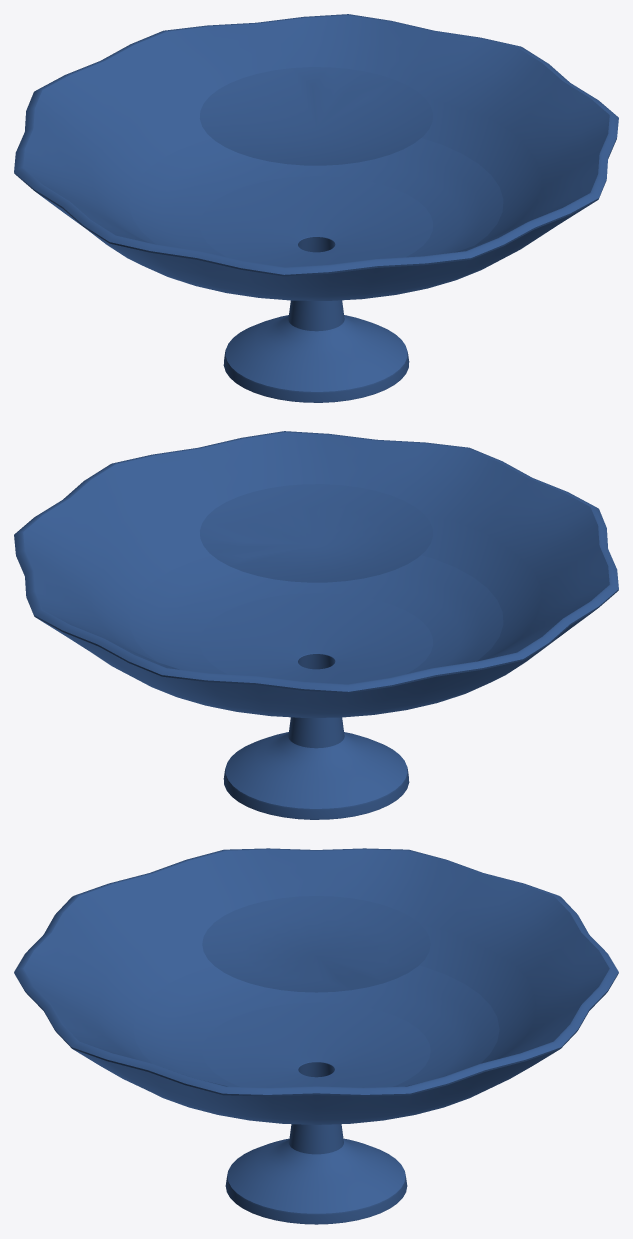
The model's file is Fruttiera3.fbx.
3 views of the same model, one above another, from view 1: azimuth 30°, elevation 25°; view 2: azimuth 150°, elevation 25°; view 3: azimuth 270°, elevation 25° (orthographic). The views are drawn at different scales.
Parts seen in each view (by area): view 1: Part3, Part5, Part4, Part1, Part2; view 2: Part3, Part5, Part4, Part1, Part2; view 3: Part3, Part5, Part4, Part1, Part2.
Boxes of the visible parts, left/top/right/bottom form: Part3: left=23, top=15, right=609, bottom=257; Part5: left=14, top=14, right=618, bottom=389; Part4: left=199, top=67, right=432, bottom=165; Part1: left=91, top=96, right=541, bottom=245; Part2: left=223, top=325, right=409, bottom=402; Part3: left=23, top=432, right=609, bottom=674; Part5: left=14, top=431, right=618, bottom=806; Part4: left=200, top=484, right=433, bottom=582; Part1: left=91, top=513, right=541, bottom=661; Part2: left=223, top=742, right=409, bottom=819; Part3: left=23, top=849, right=609, bottom=1086; Part5: left=14, top=848, right=618, bottom=1211; Part4: left=202, top=896, right=430, bottom=992; Part1: left=96, top=925, right=536, bottom=1063; Part2: left=225, top=1149, right=407, bottom=1224.
Size of the model in its own units: 50.55 by 23.22 by 52.6.
